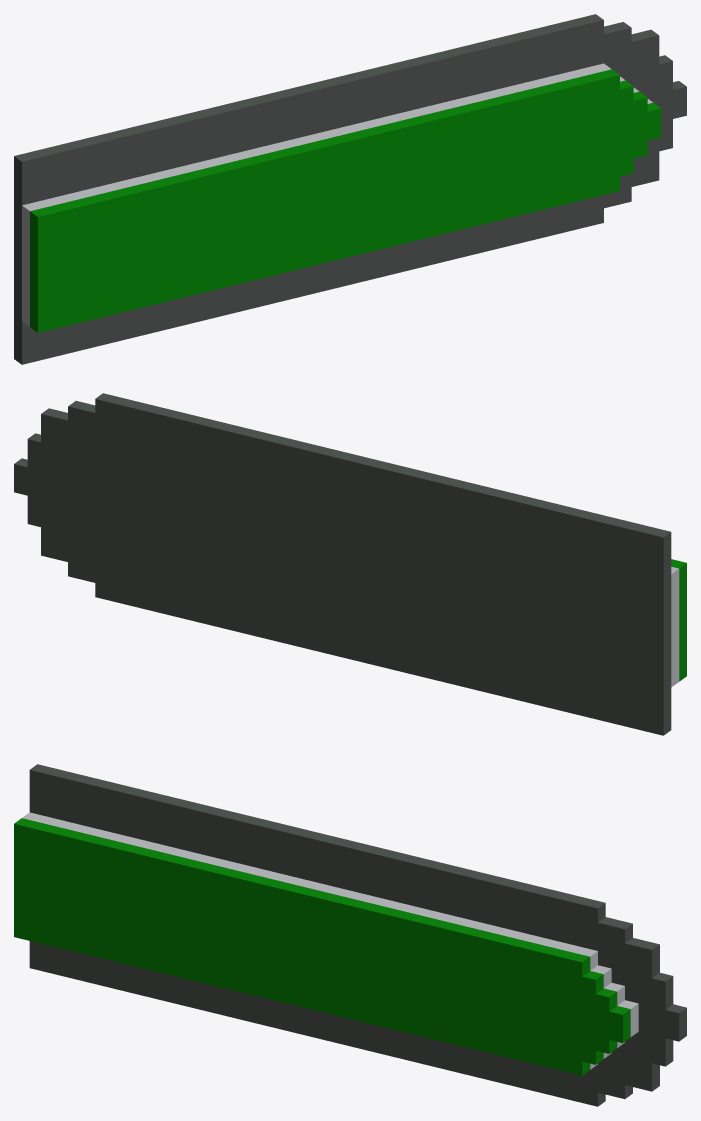
File: pokemon-overlay-2.obj
3 renders of one model, top to bottom at view 1: azimuth 30°, elevation 25°; view 2: azimuth 150°, elevation 25°; view 3: azimuth 330°, elevation 25°, orthographic. The views are drawn at different scales.
Size of the model in its own units: 4.8 by 1.4 by 0.3.
Materials: 1 (1 with a texture image).
